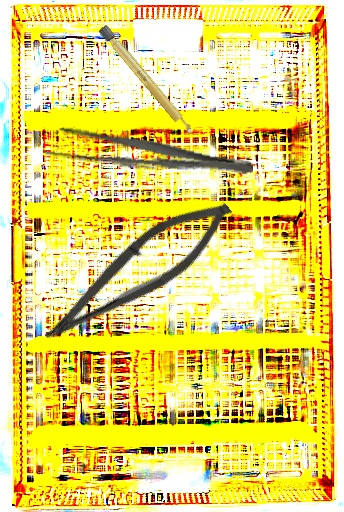Dressing Forceps: (42, 123, 256, 185)
Micro Scissor: (33, 181, 244, 366)
Scalpel Handle: (97, 23, 197, 140)
